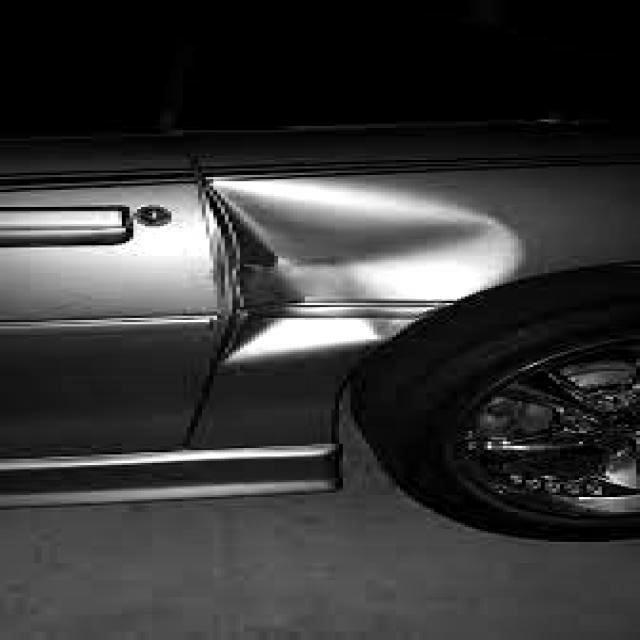quaterpanel-dent: (206, 159, 542, 383)
